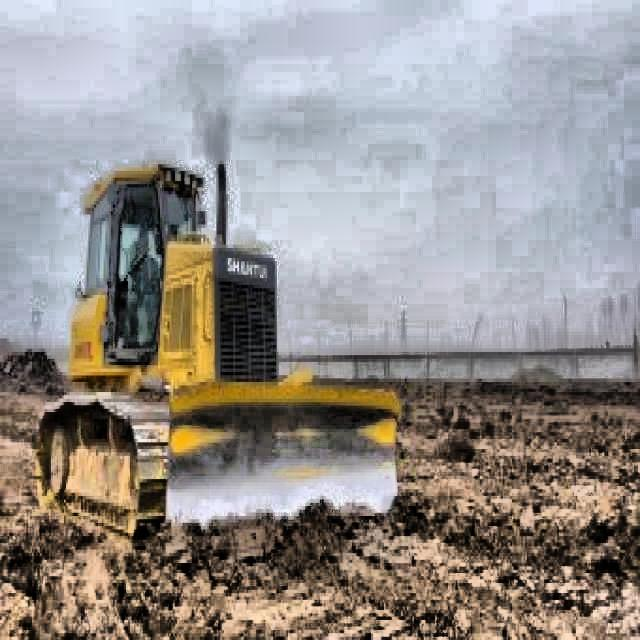bull_dozer/loader/grader: (33, 156, 400, 542)
person: (125, 220, 161, 340)
